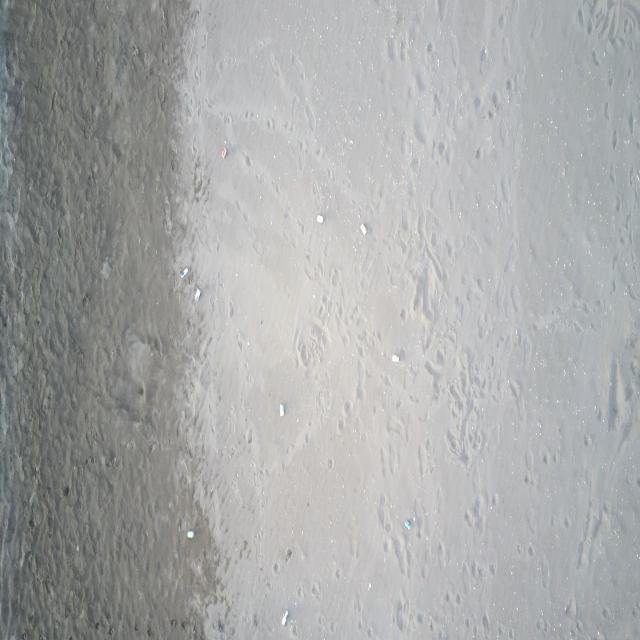tin-and-aluminum-cans: (281, 608, 289, 628), (359, 222, 368, 236), (316, 213, 326, 224), (220, 146, 228, 159), (194, 288, 201, 302), (180, 267, 188, 279), (390, 354, 400, 363), (404, 520, 412, 531), (187, 529, 194, 540), (280, 402, 284, 418)
